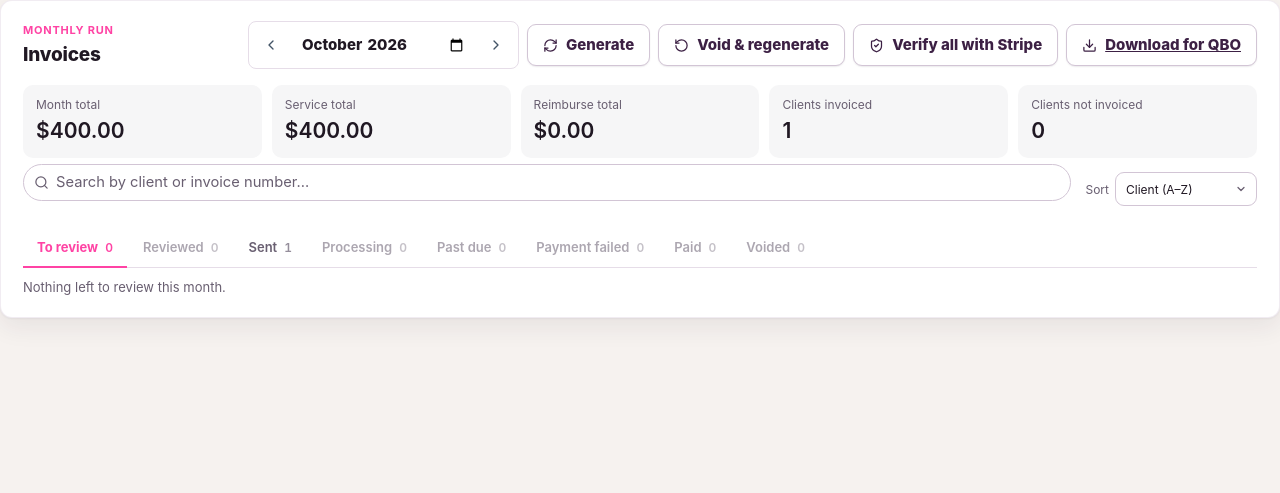
Test: the Autopay badge › shows no badge for an invoice autopay never touched
Click the tab "Sent 1" at (270, 249), box [234,229,306,268]
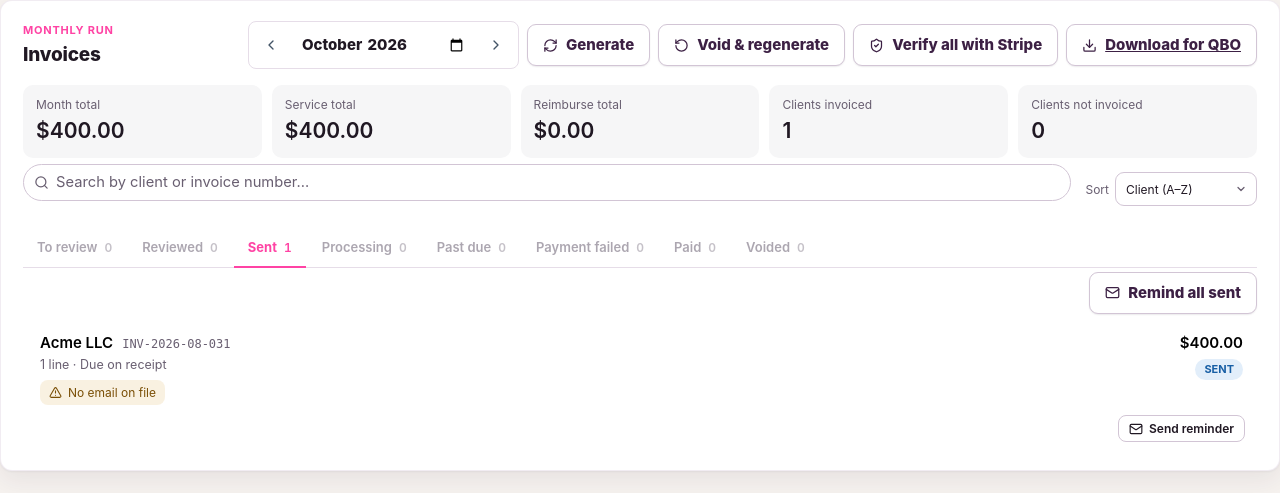
Check: the text "INV-2026-08-031" is shown, box [122,336,231,353]
